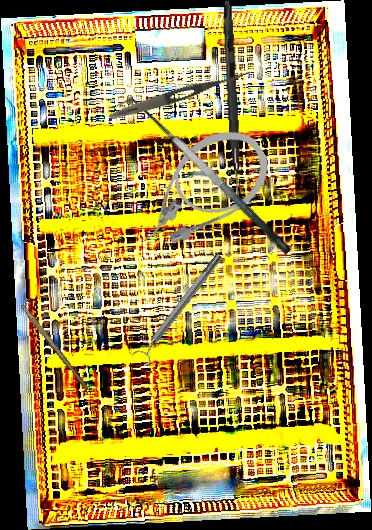Cannula: (115, 115, 283, 263)
Dressing Forceps: (107, 65, 252, 124)
Fixation Ring: (130, 249, 229, 368)
Hook Surgical: (220, 0, 246, 211)
Scalpel Handle: (18, 303, 91, 392)
Spatula Surgical: (115, 85, 294, 269)
